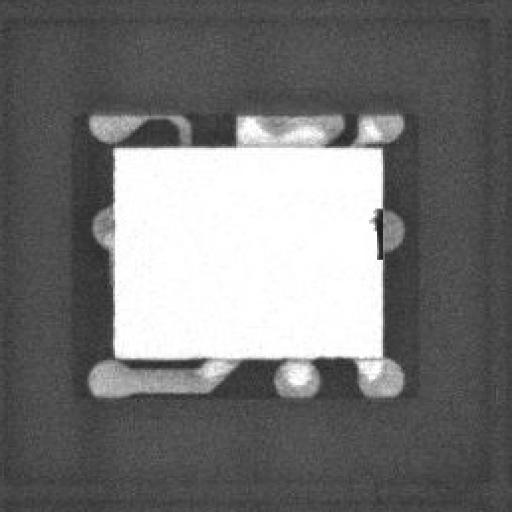DIE_BROKEN: (367, 201, 385, 264)
